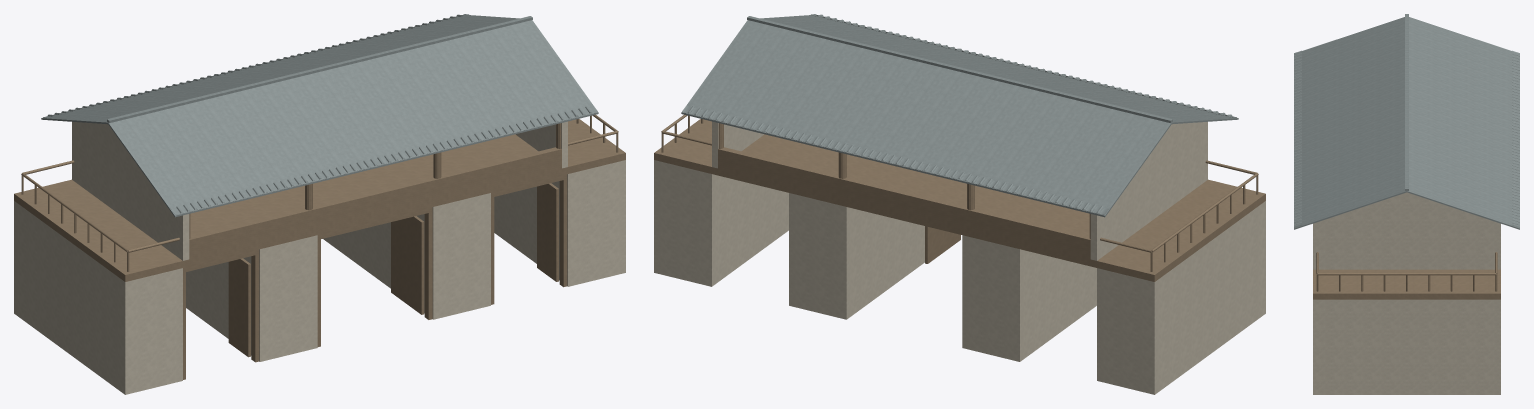
The model's file is shangdong-S-LOD1.glb.
3 renders of one model, left to right at view 1: azimuth 30°, elevation 25°; view 2: azimuth 150°, elevation 25°; view 3: azimuth 270°, elevation 25°, orthographic. The views are drawn at different scales.
Visible parts, largest first — view 1: shangdong-S-static_tile, shangdong-S-static_earth, shangdong-S-static_timber; view 2: shangdong-S-static_earth, shangdong-S-static_tile, shangdong-S-static_timber; view 3: shangdong-S-static_tile, shangdong-S-static_earth, shangdong-S-static_timber.
Boxes of the visible parts, <box> form: shangdong-S-static_tile: <box>41,14,598,217</box>; shangdong-S-static_earth: <box>14,121,625,394</box>; shangdong-S-static_timber: <box>14,114,625,379</box>; shangdong-S-static_earth: <box>654,121,1265,394</box>; shangdong-S-static_tile: <box>681,14,1238,217</box>; shangdong-S-static_timber: <box>654,114,1265,281</box>; shangdong-S-static_tile: <box>1294,14,1519,229</box>; shangdong-S-static_earth: <box>1313,192,1500,394</box>; shangdong-S-static_timber: <box>1313,252,1500,299</box>.
Size of the model in its own units: 26 by 11.16 by 12.
Materials: 3 (3 with a texture image).
